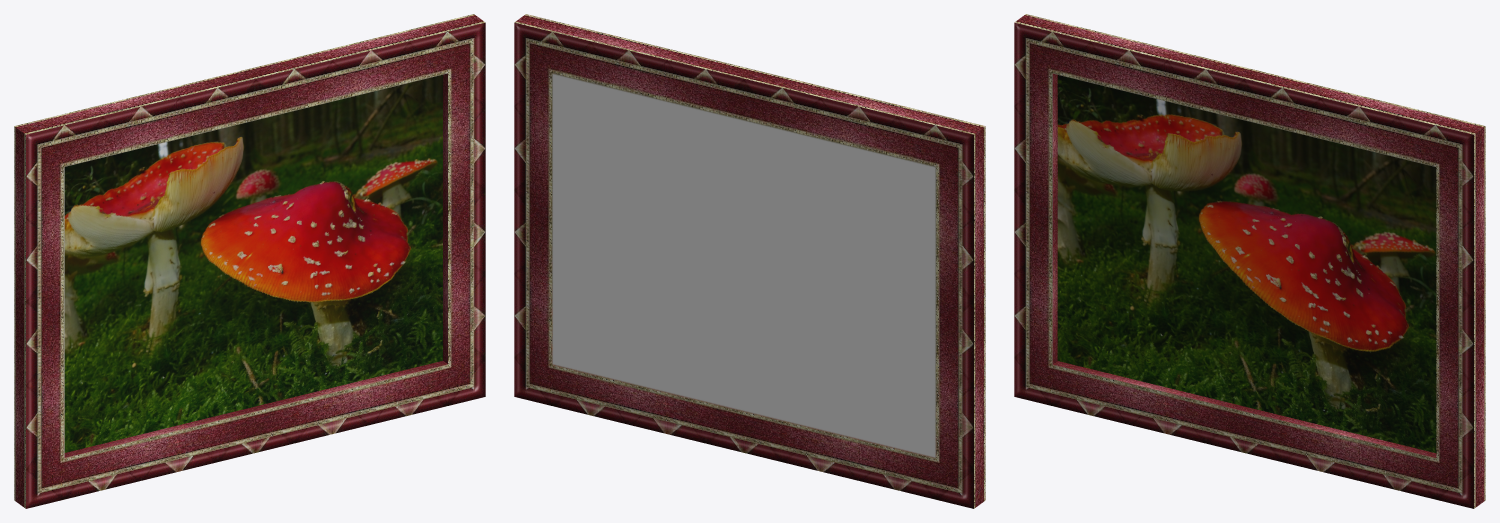
File: Frame_07.FBX
The picture shows the model from 3 angles, left to right: view 1: azimuth 30°, elevation 25°; view 2: azimuth 150°, elevation 25°; view 3: azimuth 330°, elevation 25°; orthographic projection.
Parts seen in each view (by area): view 1: Frame_07; view 2: Frame_07; view 3: Frame_07.
Part boxes in pixels (x1,y1,x2,y2): Frame_07: (14,14,485,508); Frame_07: (514,14,985,508); Frame_07: (1014,14,1485,508).
Size of the model in its own units: 810 by 36 by 630.
